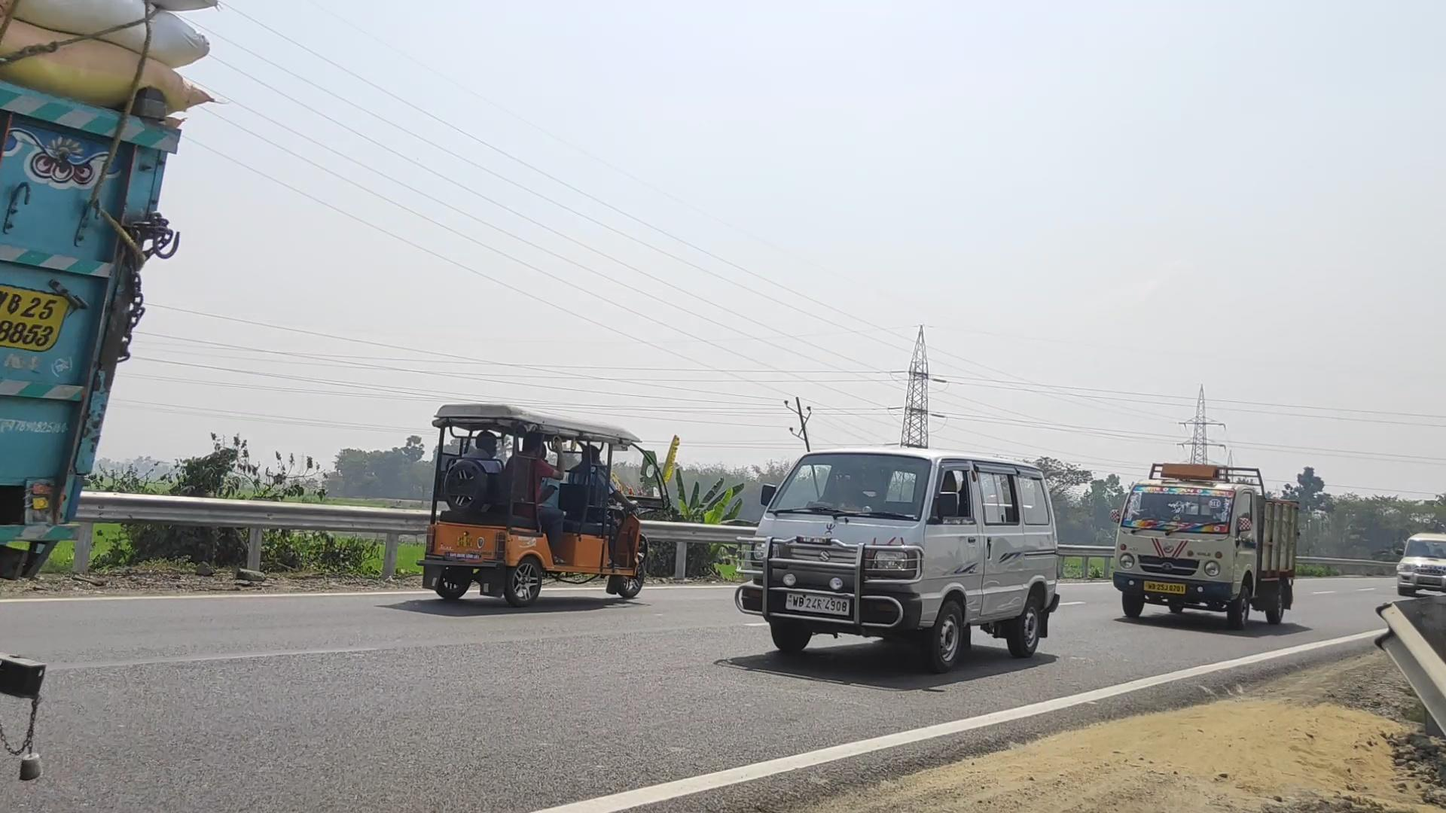Auto: (418, 401, 670, 607)
car: (1395, 531, 1446, 598)
van: (736, 449, 1060, 673), (1109, 463, 1301, 631)
